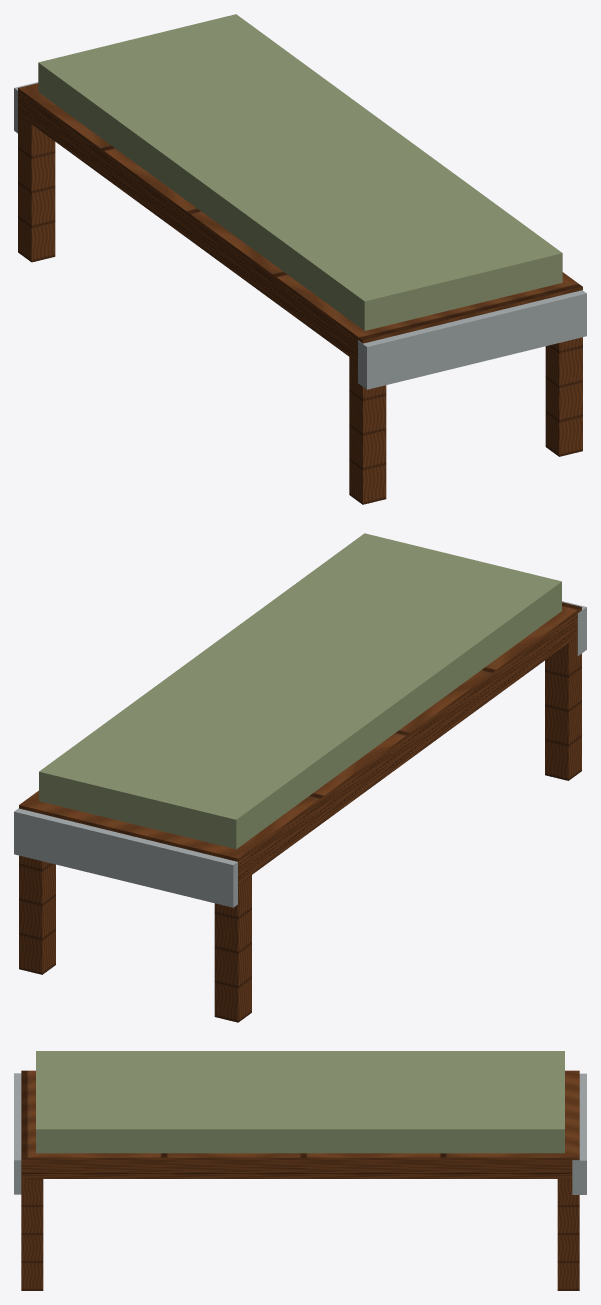
Rendered from bunker-shelter-construction-bunk-folding-wall-eec0011c__23326.glb.
The picture shows the model from 3 angles, top to bottom: view 1: azimuth 30°, elevation 25°; view 2: azimuth 150°, elevation 25°; view 3: azimuth 270°, elevation 25°; orthographic projection. The views are drawn at different scales.
Parts seen in each view (by area): view 1: bunk-folding-wall; view 2: bunk-folding-wall; view 3: bunk-folding-wall.
Part boxes in pixels (box(x1,y1,x2,y2)): bunk-folding-wall: box(14, 14, 586, 504); bunk-folding-wall: box(14, 533, 586, 1022); bunk-folding-wall: box(14, 1051, 586, 1290).
Size of the model in its own units: 0.7023 by 0.5901 by 1.95.
3 materials, 1 textured.
